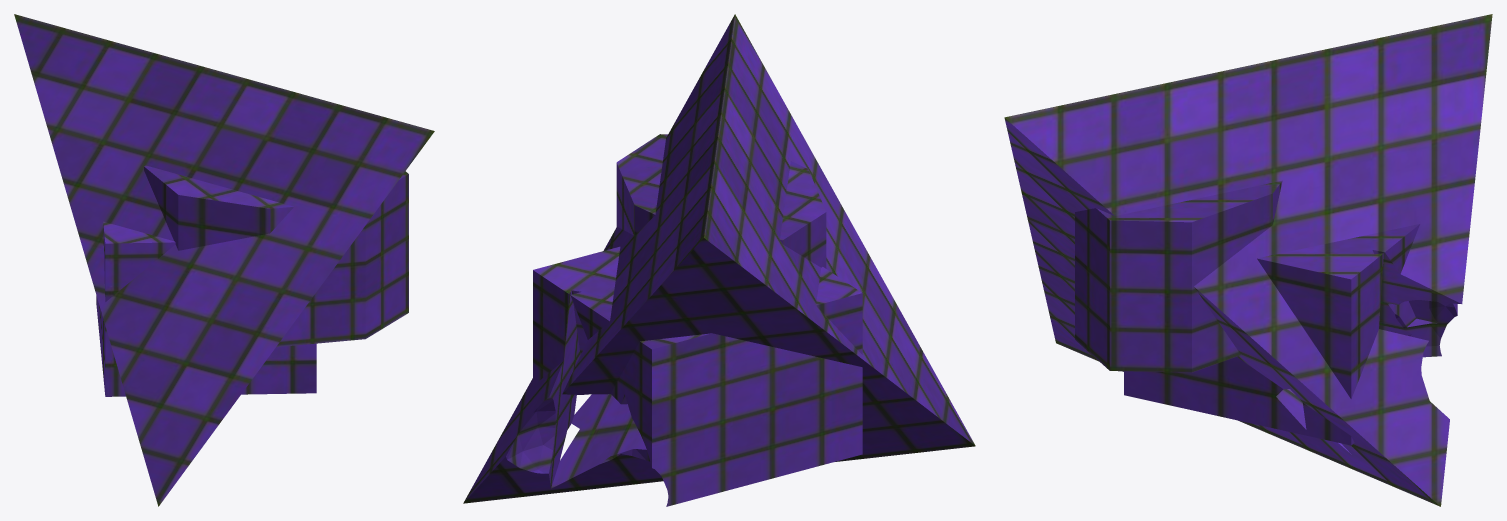
The picture shows the model from 3 angles, left to right: view 1: azimuth 30°, elevation 25°; view 2: azimuth 150°, elevation 25°; view 3: azimuth 270°, elevation 25°; orthographic projection. The views are drawn at different scales.
Parts seen in each view (by area): view 1: geometry_0; view 2: geometry_0; view 3: geometry_0.
Boxes of the visible parts, x1,y1,x2,y2 form: geometry_0: [14, 14, 434, 506]; geometry_0: [463, 14, 975, 506]; geometry_0: [1004, 14, 1492, 506].
Size of the model in its own units: 1.39 by 1.42 by 1.75.
Materials: 1 (1 with a texture image).
